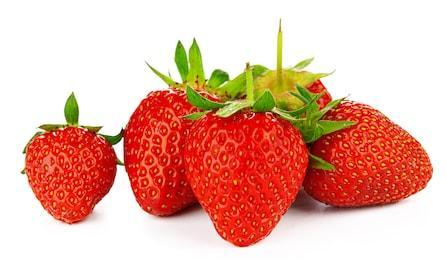Fresa: (178, 95, 314, 252), (298, 95, 437, 217), (121, 77, 226, 222), (17, 119, 123, 229)
